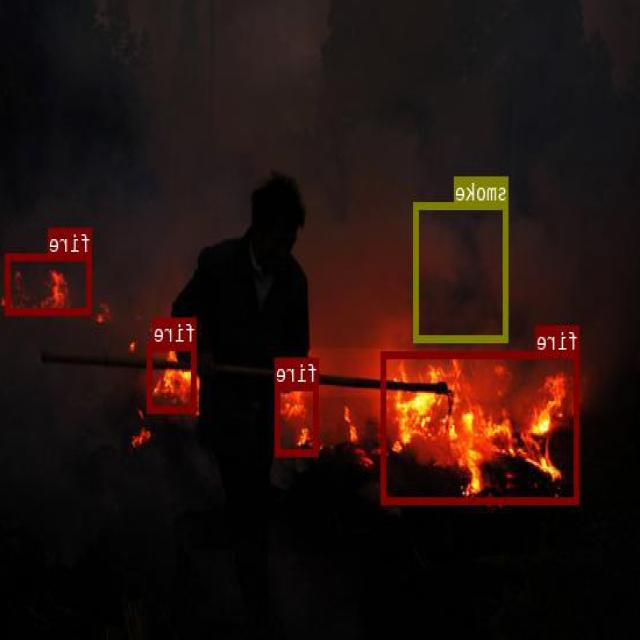fire: (382, 350, 580, 503), (6, 252, 93, 314), (148, 343, 197, 411), (276, 382, 320, 454)
smoke: (414, 202, 509, 341)
